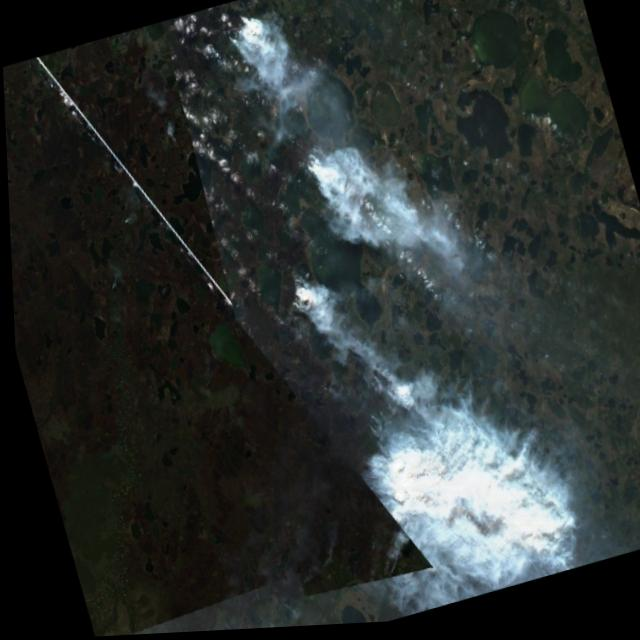fire: (289, 140, 349, 244), (214, 3, 271, 86), (278, 267, 311, 322), (242, 619, 266, 631)
